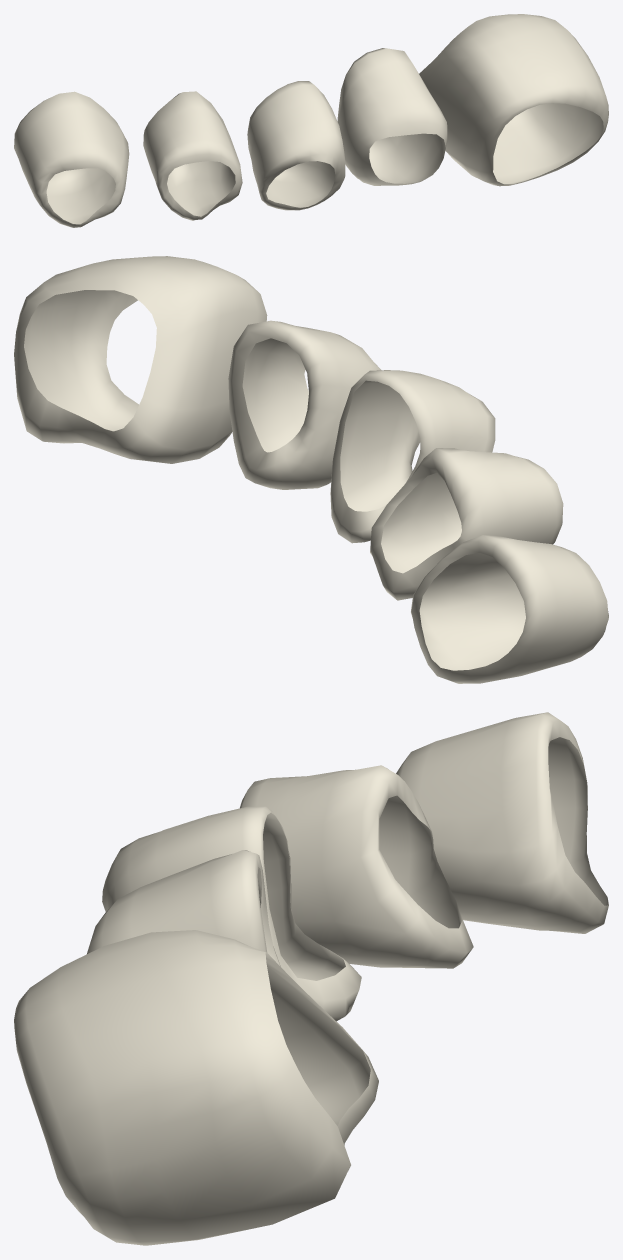
3 renders of one model, top to bottom at view 1: azimuth 30°, elevation 25°; view 2: azimuth 150°, elevation 25°; view 3: azimuth 270°, elevation 25°, orthographic. The views are drawn at different scales.
Parts seen in each view (by area): view 1: ZA_898fb398bf6e1703; view 2: ZA_898fb398bf6e1703; view 3: ZA_898fb398bf6e1703.
Part boxes in pixels (left/top/right/bottom): ZA_898fb398bf6e1703: left=14, top=14, right=608, bottom=227; ZA_898fb398bf6e1703: left=14, top=256, right=608, bottom=683; ZA_898fb398bf6e1703: left=14, top=712, right=608, bottom=1245.
Size of the model in its own units: 0.0808 by 0.0247 by 0.0454.
